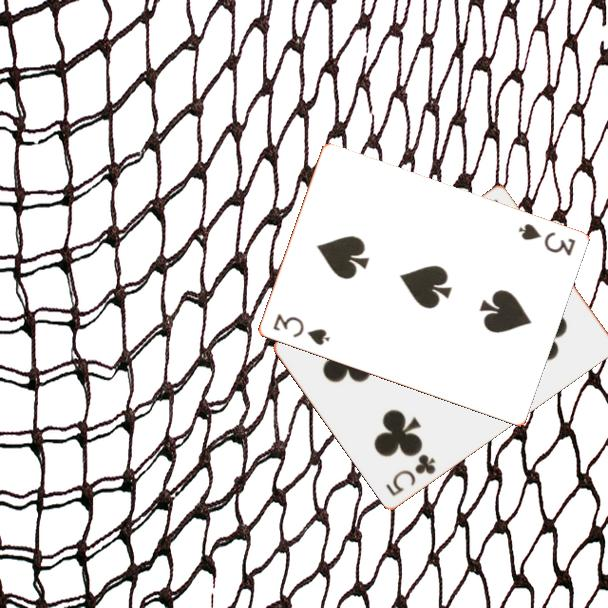c05: (382, 450, 439, 499)
s03: (514, 220, 578, 259), (269, 310, 332, 349)
